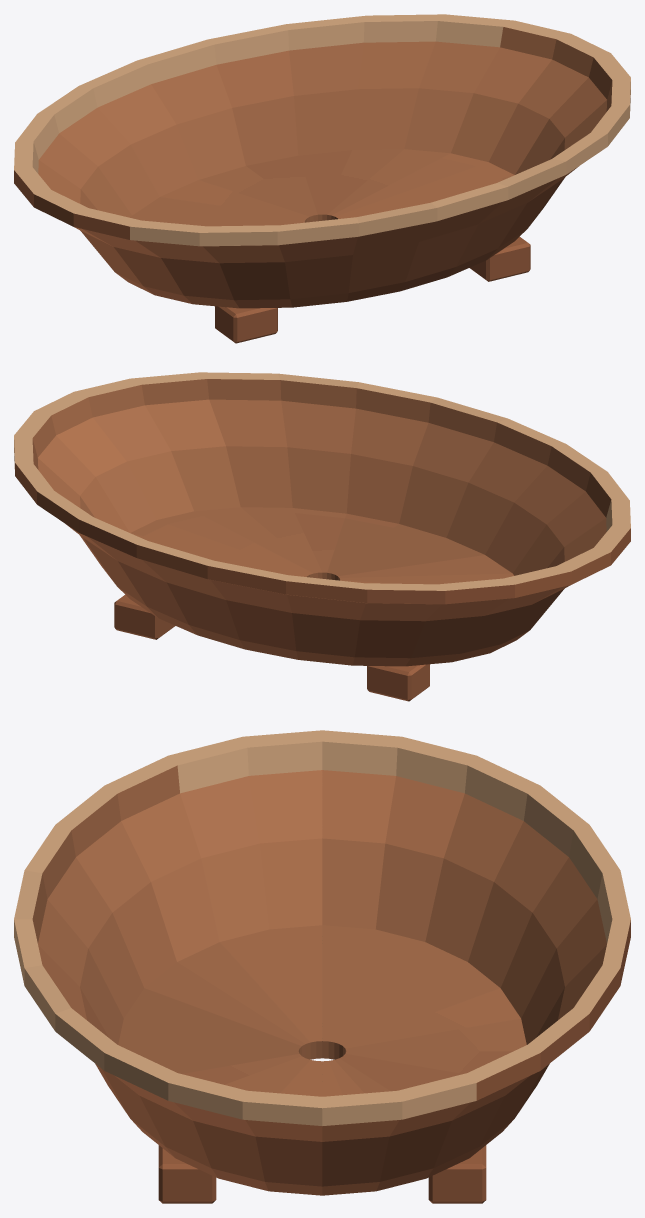
The model's file is vessel-tokoname.glb.
The picture shows the model from 3 angles, top to bottom: view 1: azimuth 30°, elevation 25°; view 2: azimuth 150°, elevation 25°; view 3: azimuth 270°, elevation 25°; orthographic projection. The views are drawn at different scales.
Parts seen in each view (by area): view 1: vessel-tokoname/complete-inner-outer-shell-with-drainage, vessel-tokoname/short-solid-foot-1, vessel-tokoname/short-solid-foot-2; view 2: vessel-tokoname/complete-inner-outer-shell-with-drainage, vessel-tokoname/short-solid-foot-4, vessel-tokoname/short-solid-foot-3; view 3: vessel-tokoname/complete-inner-outer-shell-with-drainage, vessel-tokoname/short-solid-foot-2, vessel-tokoname/short-solid-foot-3.
Part boxes in pixels (x1,y1,x2,y2): vessel-tokoname/complete-inner-outer-shell-with-drainage: (14, 14, 630, 308); vessel-tokoname/short-solid-foot-1: (215, 306, 277, 343); vessel-tokoname/short-solid-foot-2: (469, 236, 530, 281); vessel-tokoname/complete-inner-outer-shell-with-drainage: (14, 372, 630, 666); vessel-tokoname/short-solid-foot-4: (367, 664, 429, 701); vessel-tokoname/short-solid-foot-3: (114, 594, 175, 639); vessel-tokoname/complete-inner-outer-shell-with-drainage: (14, 730, 630, 1195); vessel-tokoname/short-solid-foot-2: (158, 1145, 216, 1203); vessel-tokoname/short-solid-foot-3: (428, 1145, 486, 1203).
Bounding box in the file's own units: 0.4508 × 0.105 × 0.3111.
Materials: 1 (1 with a texture image).
